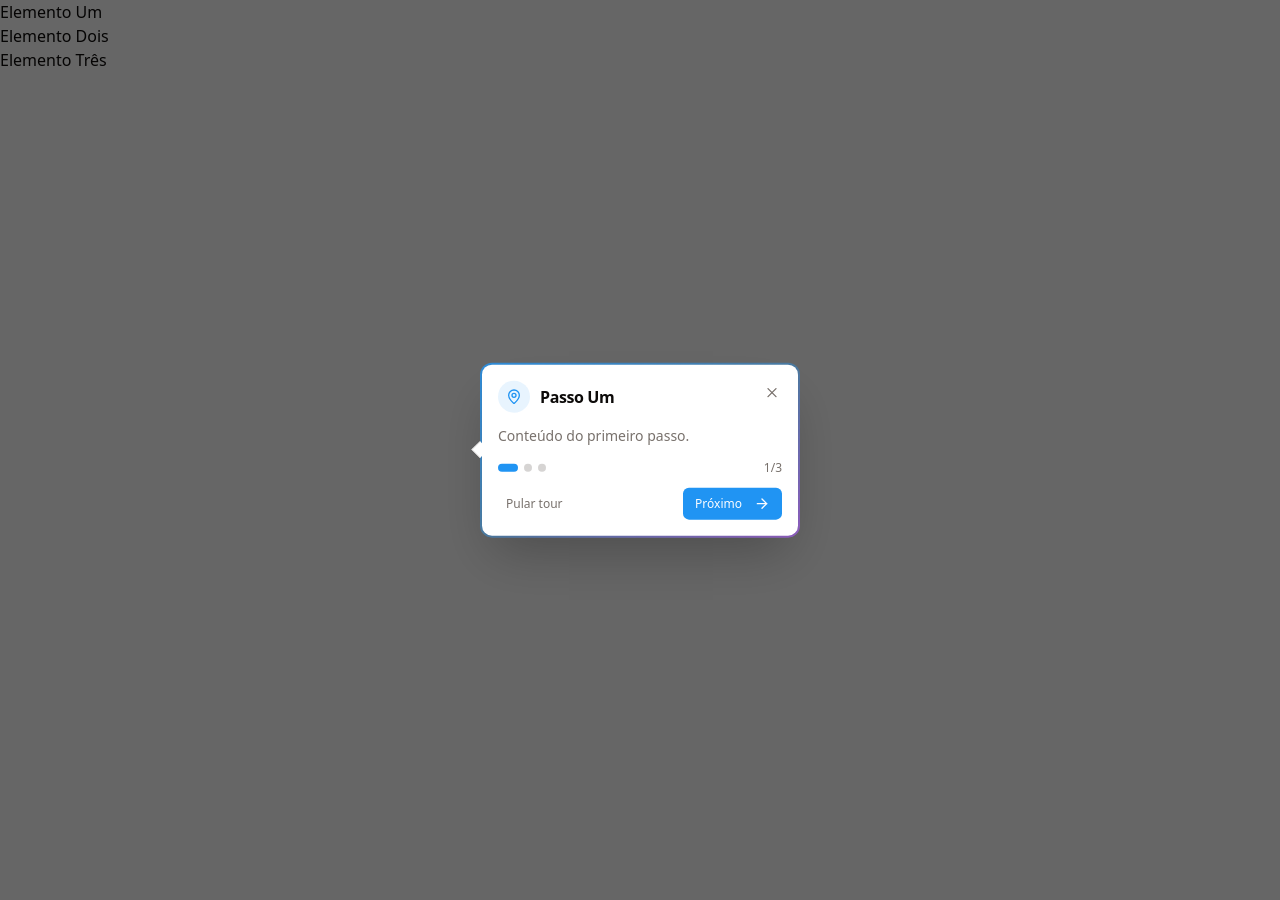
Test: GuidedTour › goes back to the previous step when 'Anterior' is clicked
// Go forward then backward
Click the button with aria-label "próximo passo".
click(733, 503)  # box [683,487,782,519]
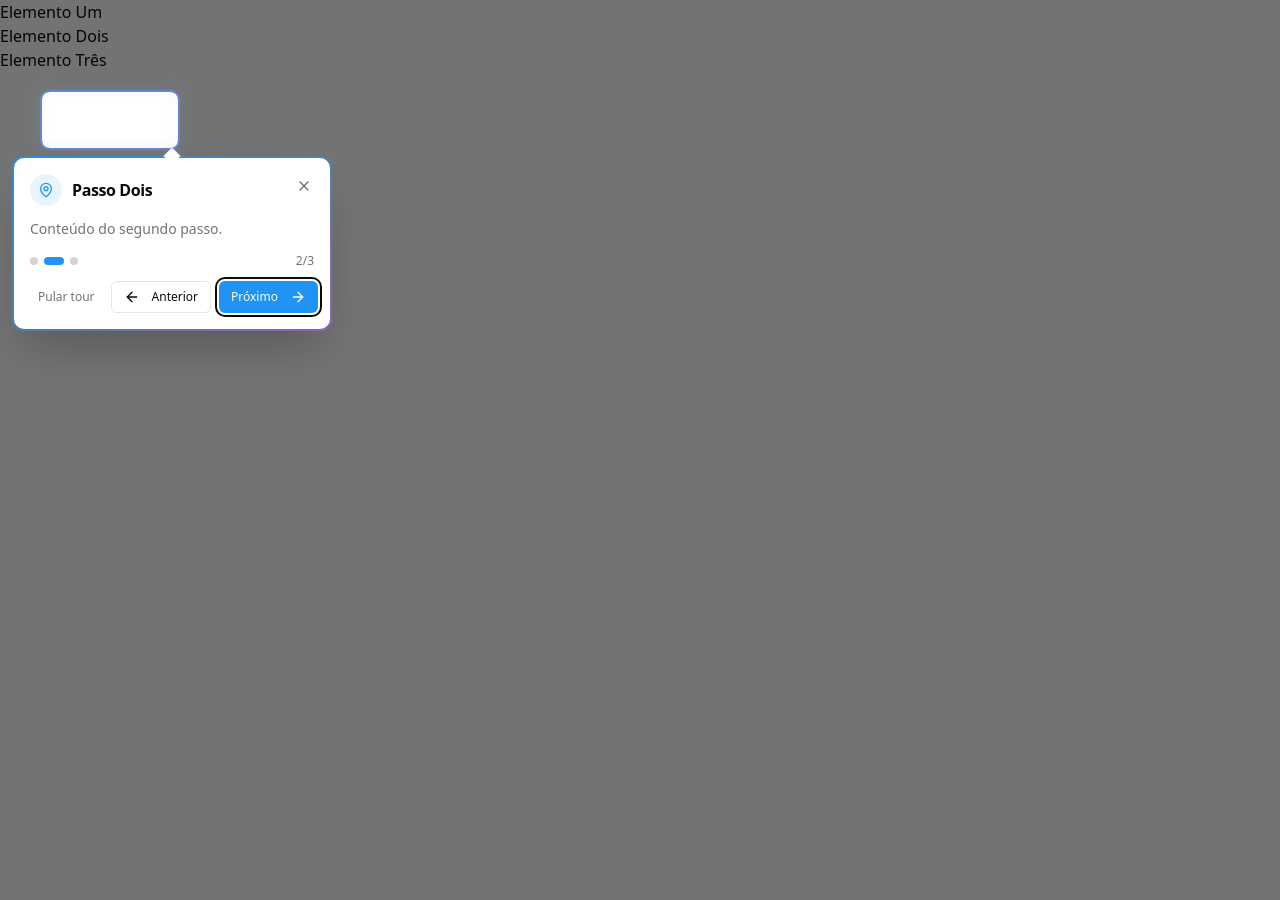
Now the text "Passo Dois" is shown, box [72,179,152,201]
Click the button with aria-label "passo anterior".
click(161, 297)  # box [110,281,211,313]
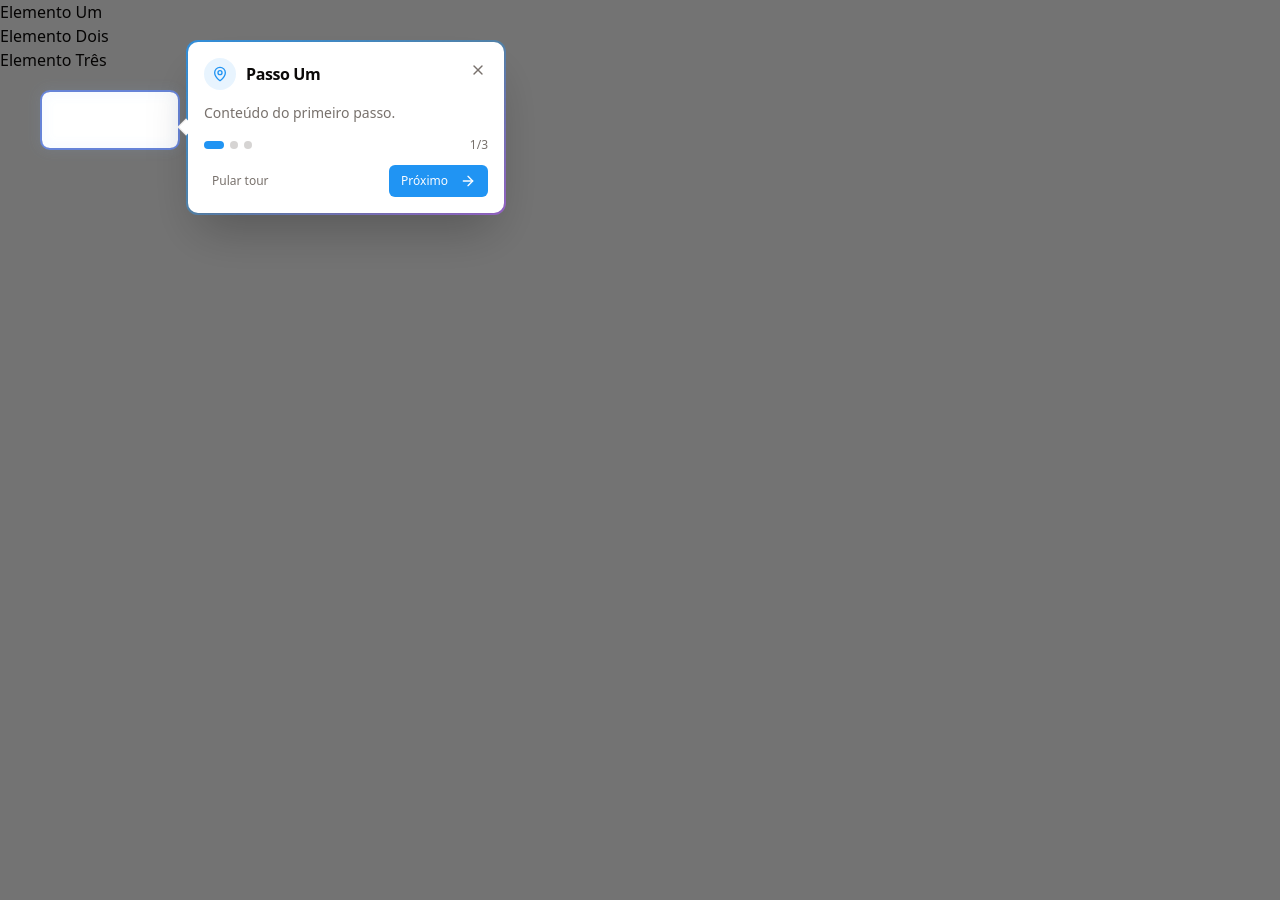
Now the text "Passo Um" is shown, box [246,63,320,85]
